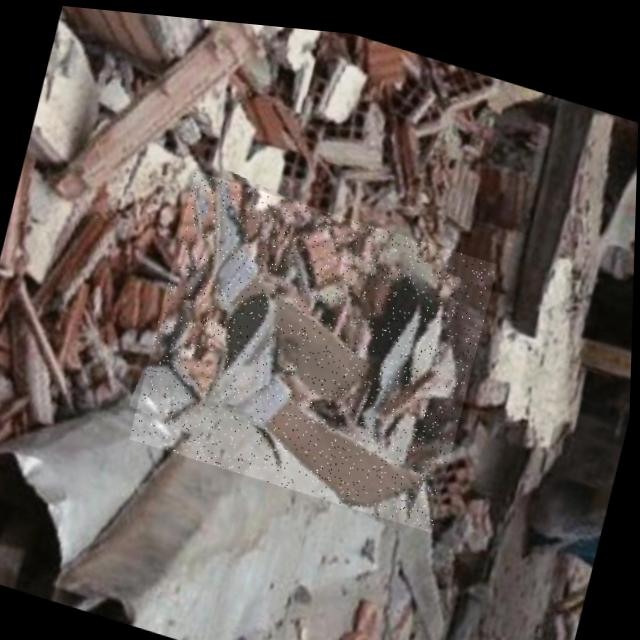Person in Rubble: (129, 161, 499, 528)
